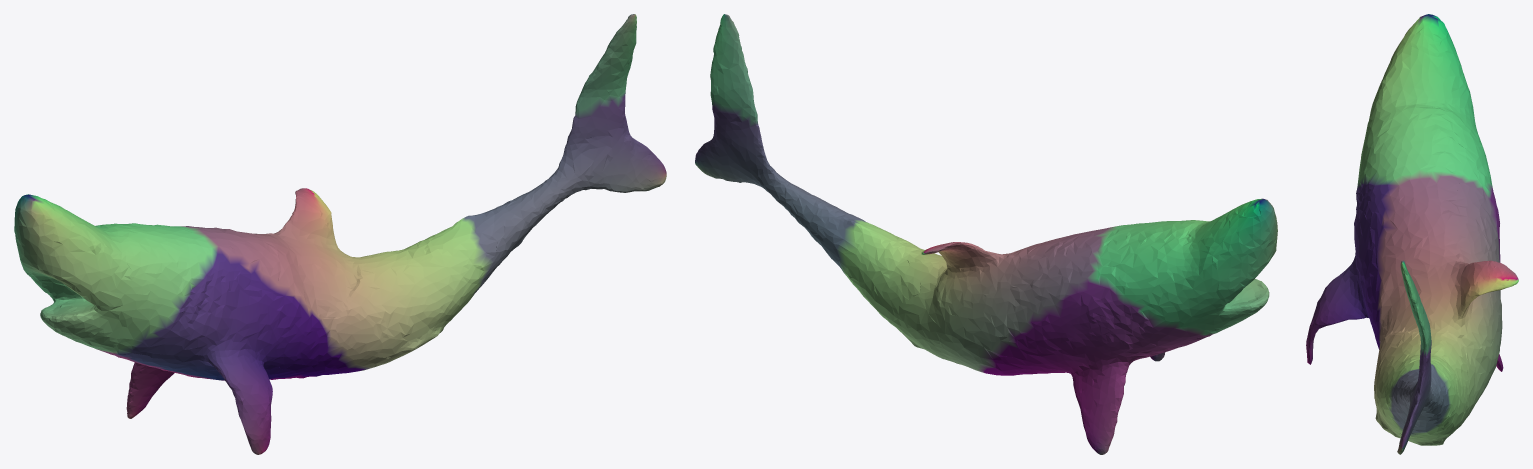
File: shark-9.off.obj
The picture shows the model from 3 angles, left to right: view 1: azimuth 30°, elevation 25°; view 2: azimuth 150°, elevation 25°; view 3: azimuth 270°, elevation 25°; orthographic projection. The views are drawn at different scales.
Size of the model in its own units: 1.42 by 0.701 by 0.4033.
